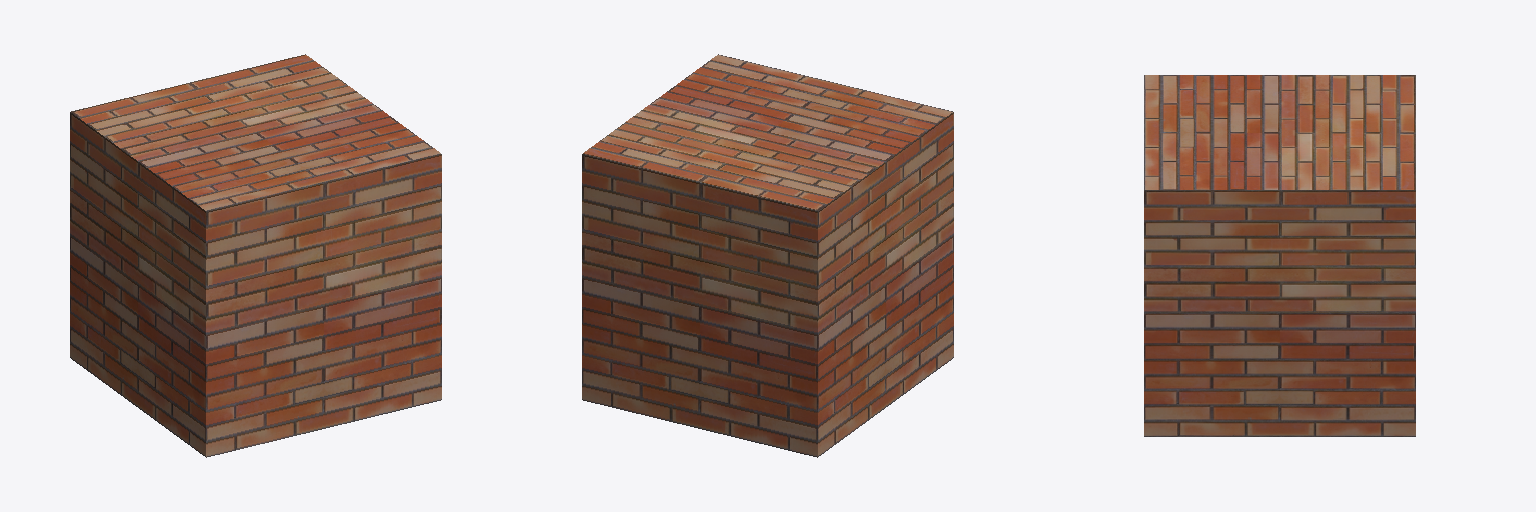
The picture shows the model from 3 angles: view 1: azimuth 30°, elevation 25°; view 2: azimuth 150°, elevation 25°; view 3: azimuth 270°, elevation 25°; orthographic projection.
Parts seen in each view (by area): view 1: Cube; view 2: Cube; view 3: Cube.
Part boxes in pixels (x1,y1,x2,y2): Cube: (70,54,441,457); Cube: (582,54,953,457); Cube: (1144,75,1415,436).
Bounding box in the file's own units: 1 × 1 × 1.
Materials: 1 (1 with a texture image).